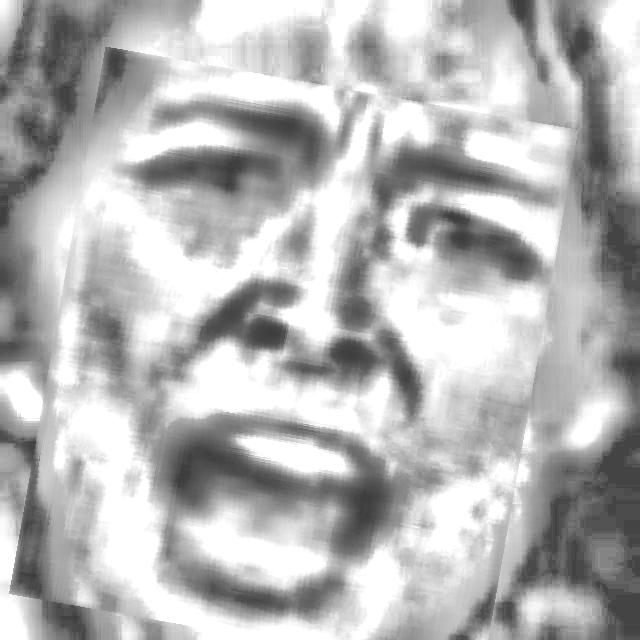angry: (31, 65, 556, 640)
